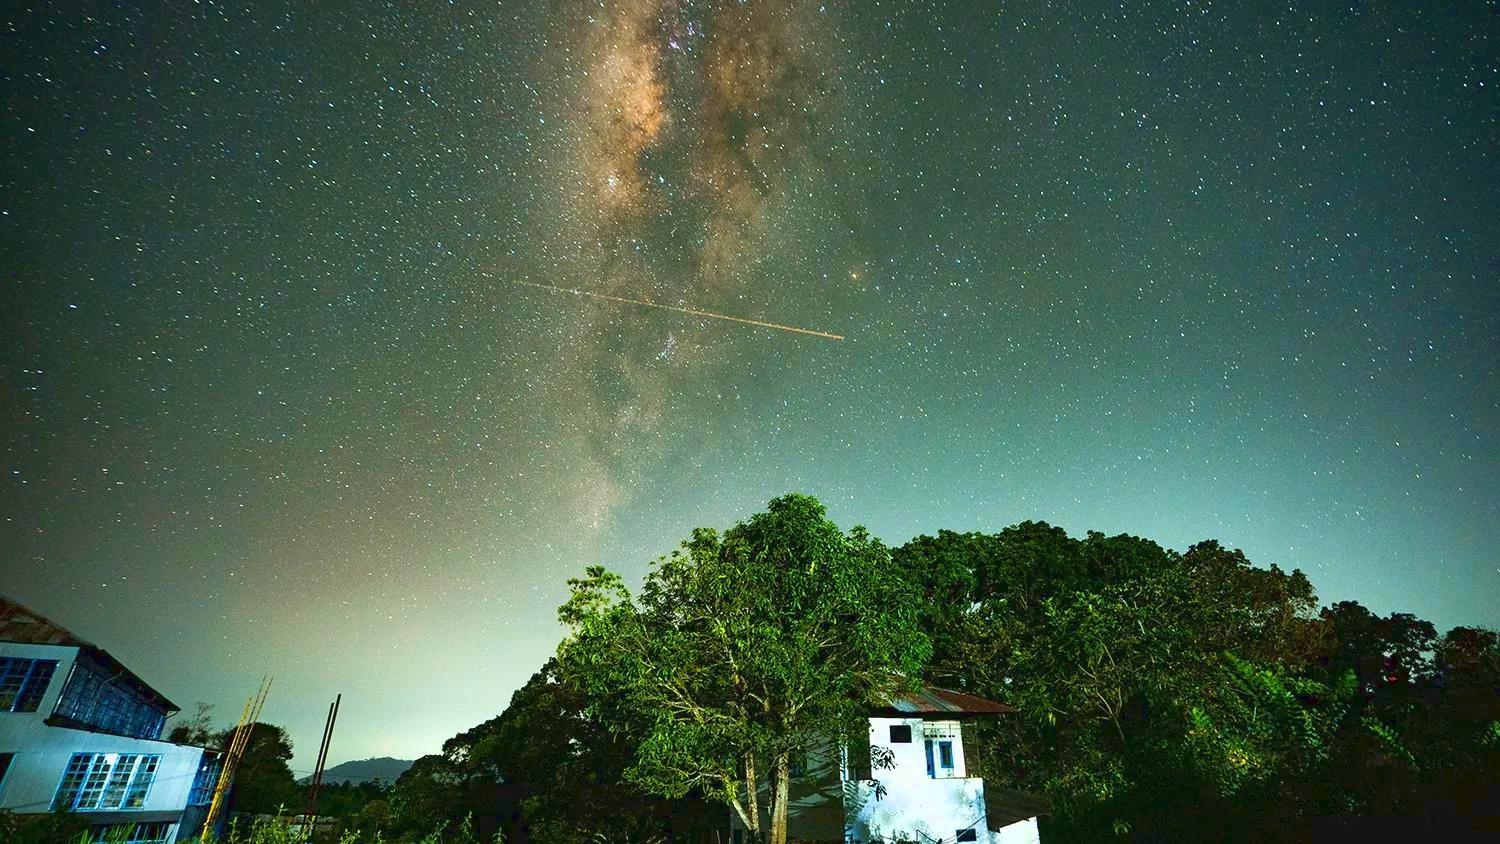meteorite: (669, 302, 862, 345)
